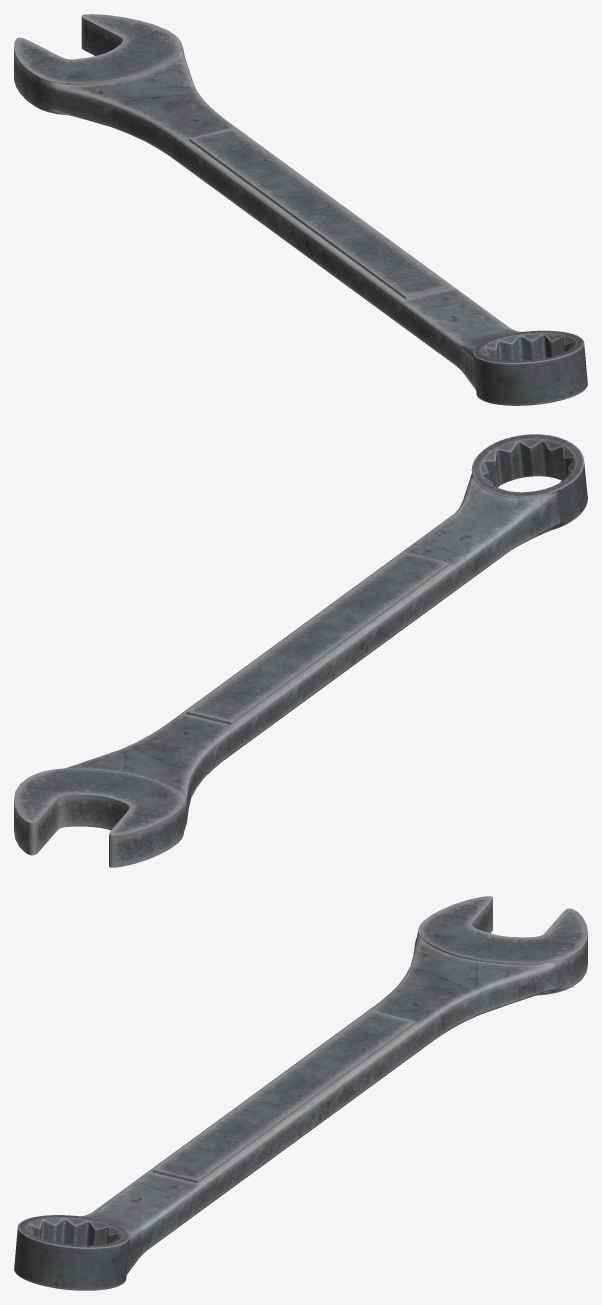
File: combination_wrench.glb
The picture shows the model from 3 angles, top to bottom: view 1: azimuth 30°, elevation 25°; view 2: azimuth 150°, elevation 25°; view 3: azimuth 330°, elevation 25°; orthographic projection.
Visible parts, largest first — view 1: combination_wrench; view 2: combination_wrench; view 3: combination_wrench.
Part boxes in pixels (x1=…): combination_wrench: x1=14, y1=14, x2=587, y2=405; combination_wrench: x1=14, y1=434, x2=587, y2=867; combination_wrench: x1=14, y1=896, x2=587, y2=1290.
Size of the model in its own units: 0.0566 by 0.0215 by 0.337.
Materials: 1 (1 with a texture image).
